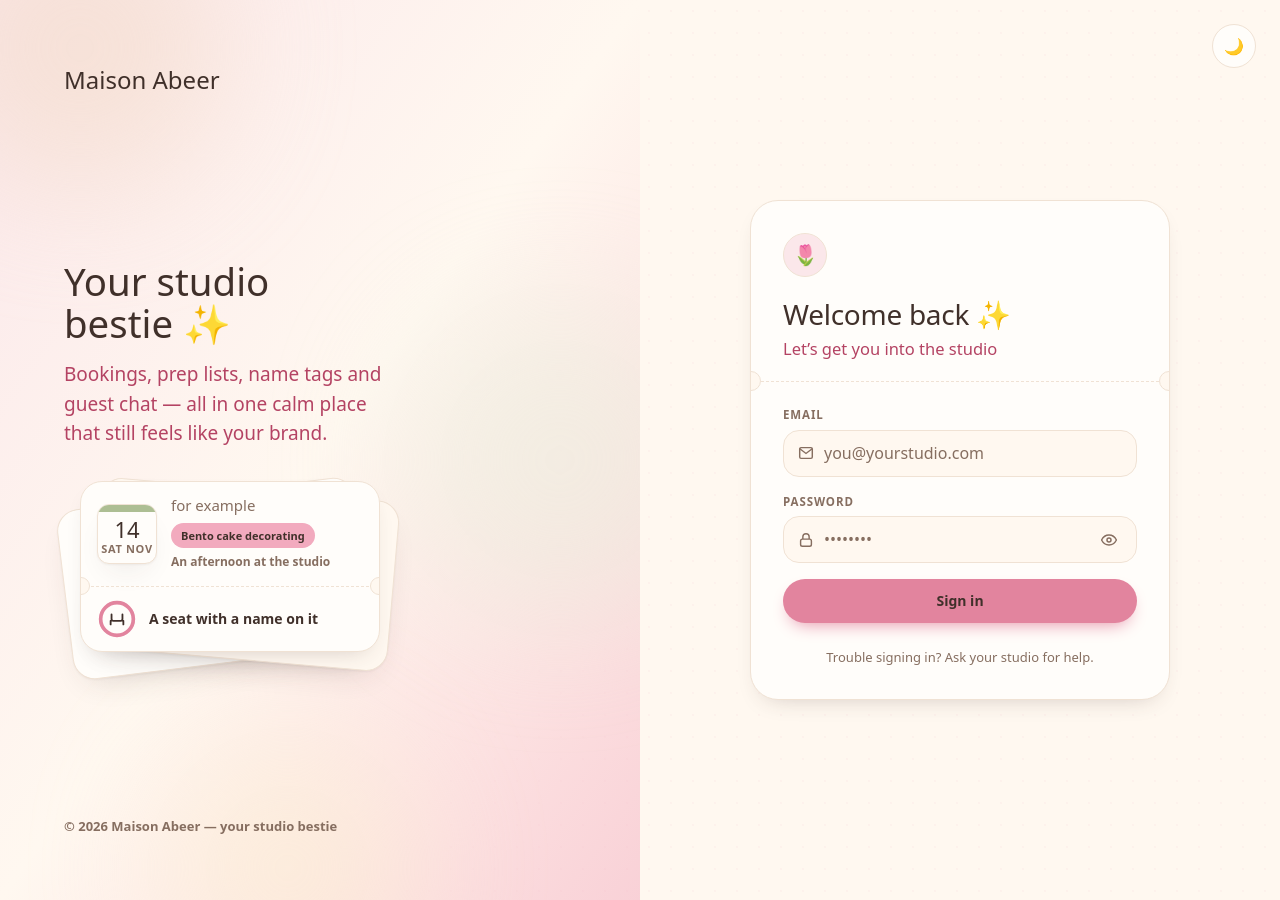
LoginPage › shows one message for any failure
The image size is (1280, 900).
Type "host@studio.test" into the field labelled "Email" at x=960, y=453, box [783,430,1137,477]
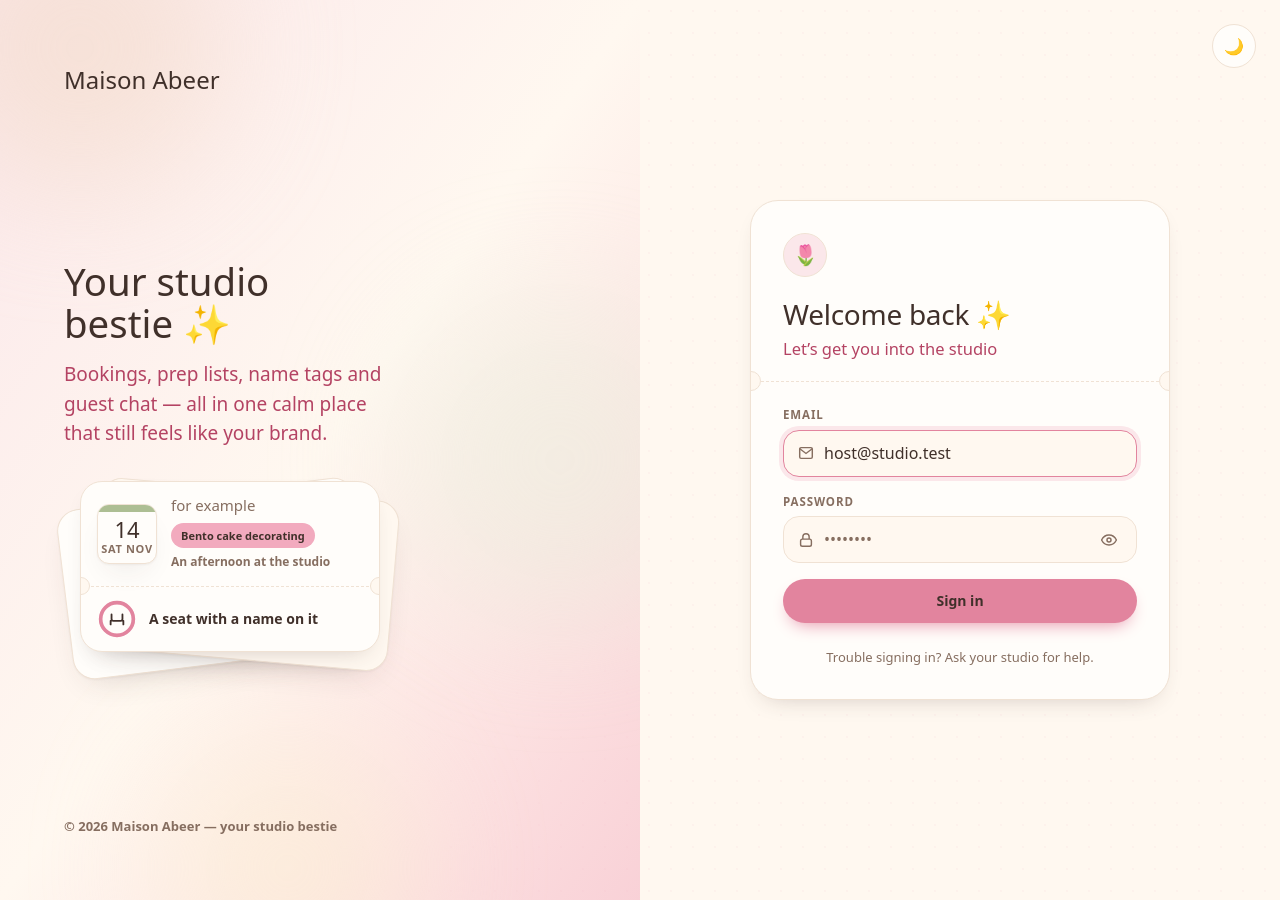
Type "secret-password" into the password field labelled "Password" at x=960, y=540, box [783,516,1137,563]
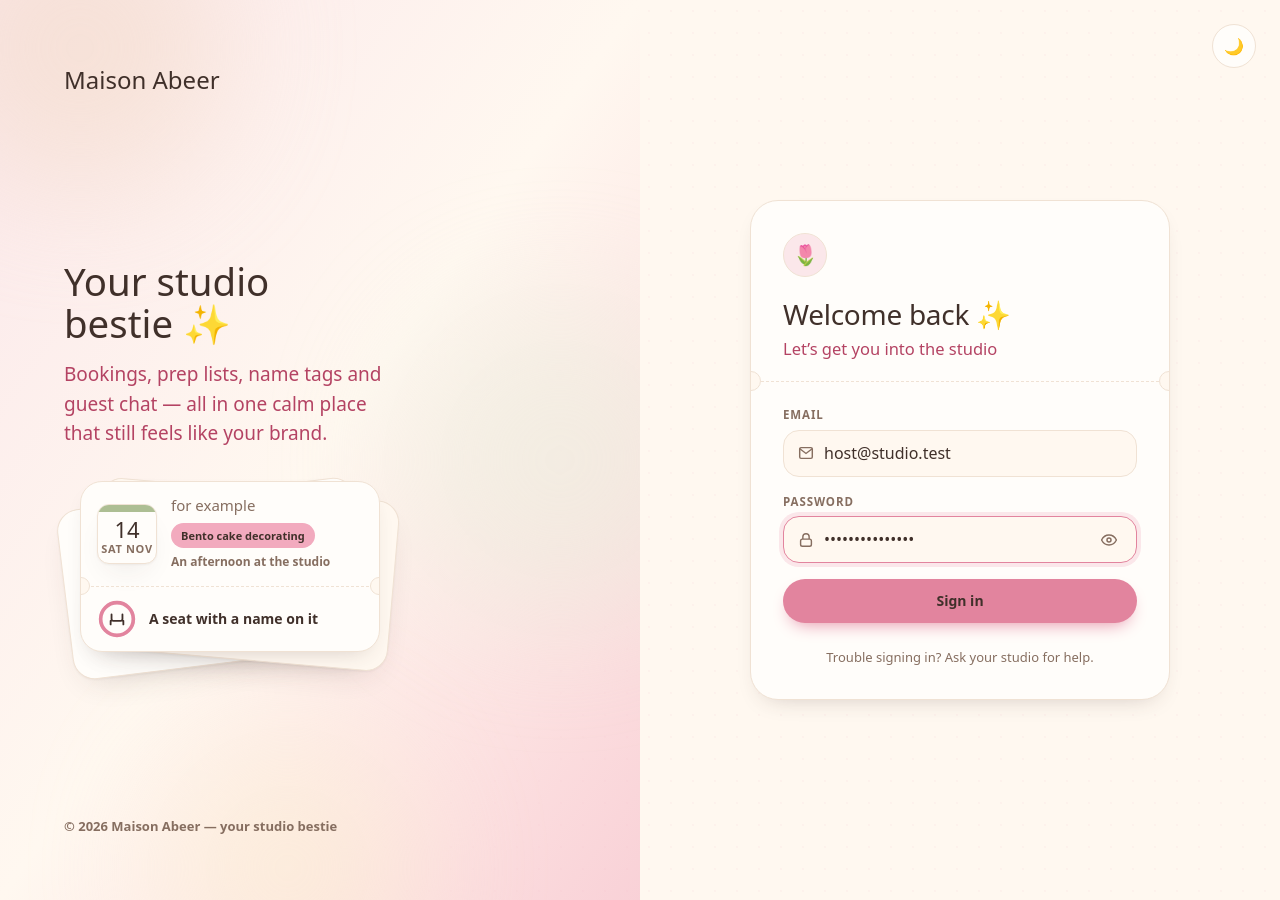
Click the button "Sign in" at x=960, y=601, box [783,579,1137,623]
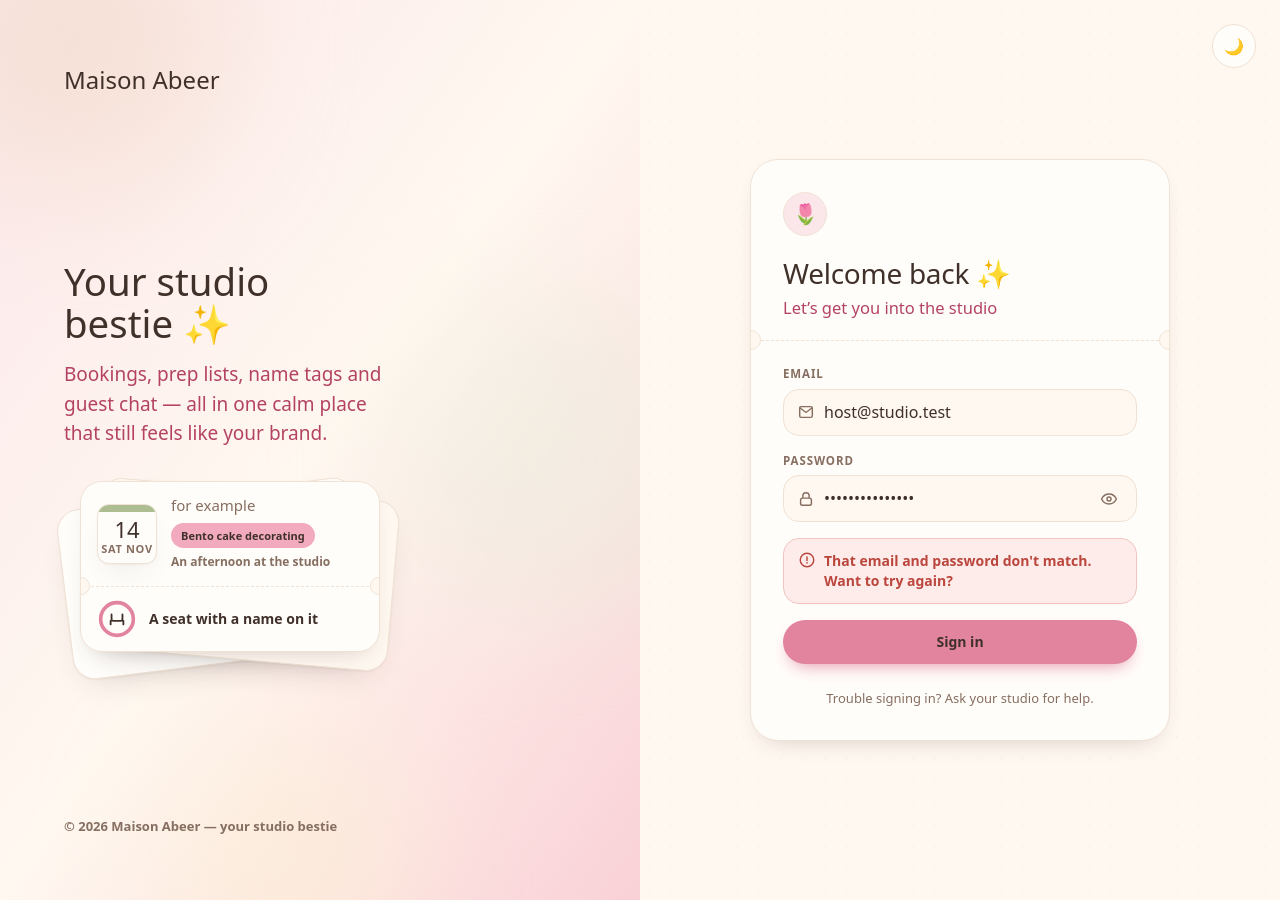
Now the message reads "That email and password don't match. Want to try again?", box [824,551,1092,590]
